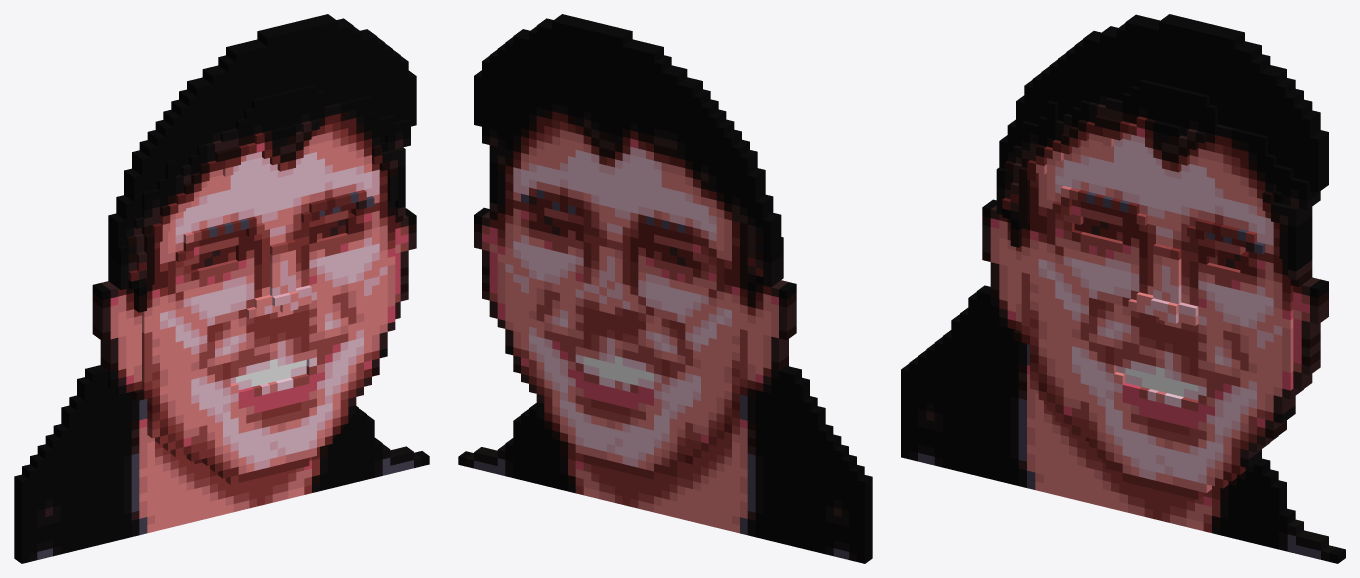
The model's file is pixelEdit2.glb.
3 renders of one model, left to right at view 1: azimuth 30°, elevation 25°; view 2: azimuth 150°, elevation 25°; view 3: azimuth 330°, elevation 25°, orthographic. The views are drawn at different scales.
Parts seen in each view (by area): view 1: generated(Clone); view 2: generated(Clone); view 3: generated(Clone).
Boxes of the visible parts, x1=… form: generated(Clone): x1=14, y1=14, x2=429, y2=563; generated(Clone): x1=458, y1=14, x2=872, y2=563; generated(Clone): x1=901, y1=14, x2=1345, y2=563.
Size of the model in its own units: 93.6 by 103 by 6.93.
